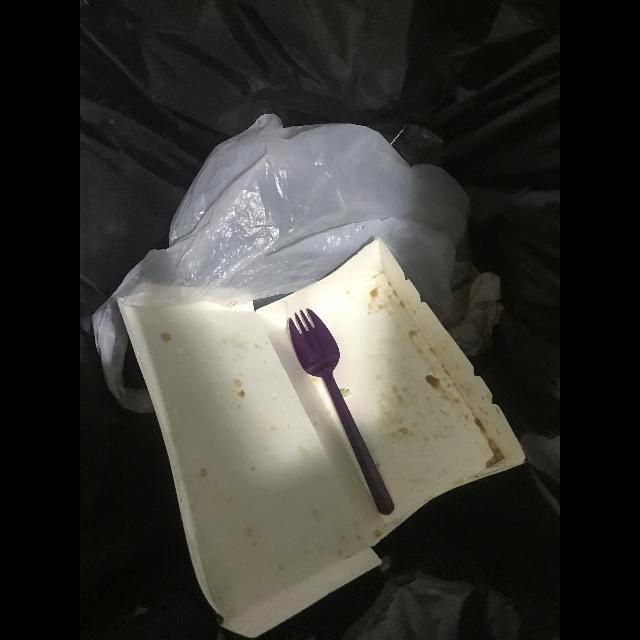cardboard: (117, 237, 528, 640)
plastic_bag: (93, 114, 470, 413)
